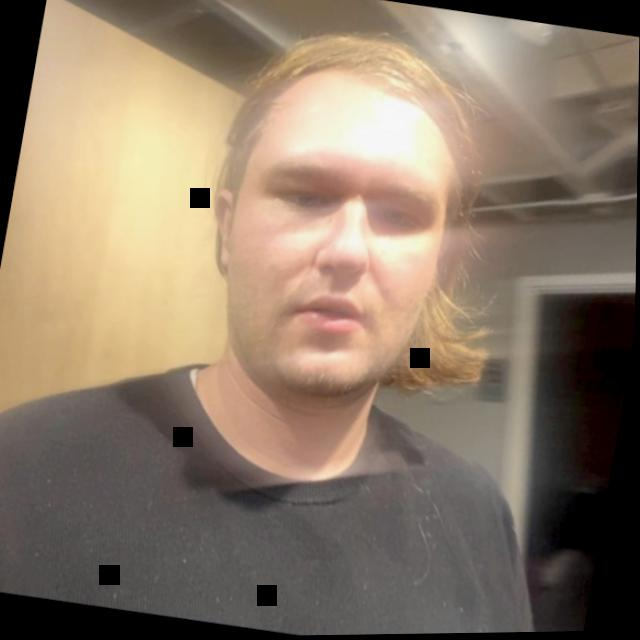NO-Mask: (152, 1, 526, 485)
